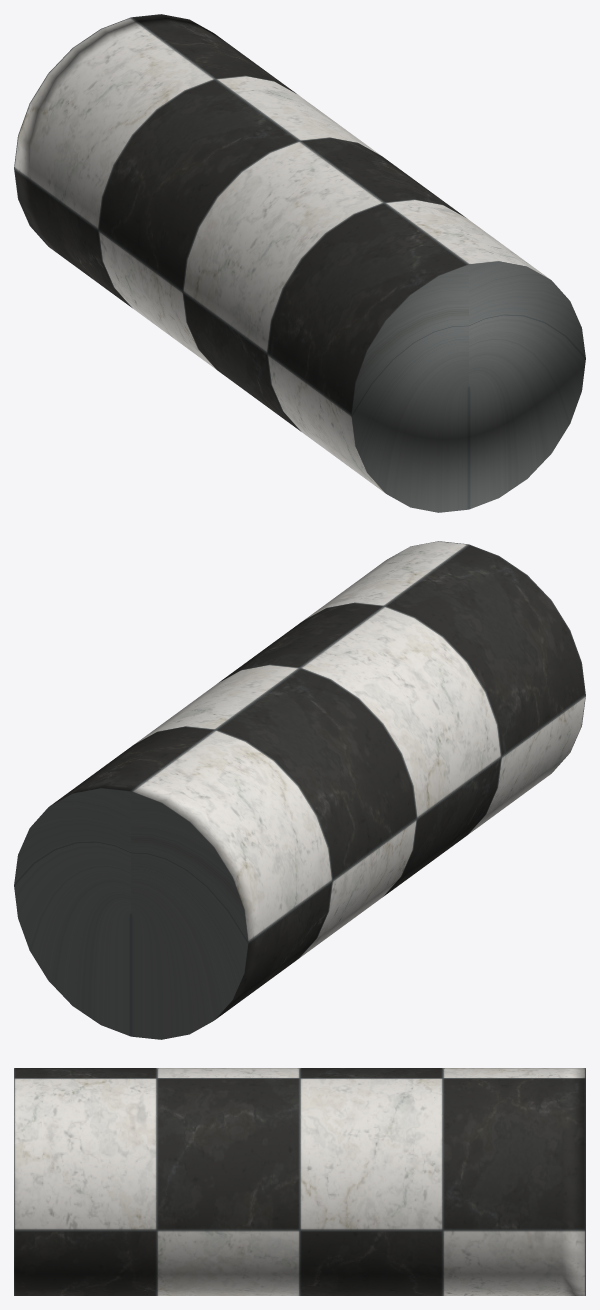
The model's file is column40.obj.
3 views of the same model, one above another, from view 1: azimuth 30°, elevation 25°; view 2: azimuth 150°, elevation 25°; view 3: azimuth 270°, elevation 25° (orthographic). The views are drawn at different scales.
Parts seen in each view (by area): view 1: object; view 2: object; view 3: object.
Boxes of the visible parts, x1,y1,x2,y2 form: object: (14, 14, 585, 512); object: (14, 541, 585, 1039); object: (14, 1068, 585, 1295).
Bounding box in the file's own units: 0.4 × 0.4 × 1.
